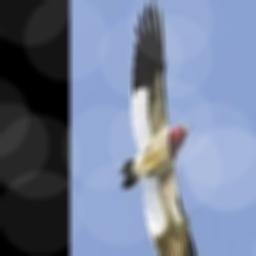Woodpecker: (119, 0, 198, 256)
